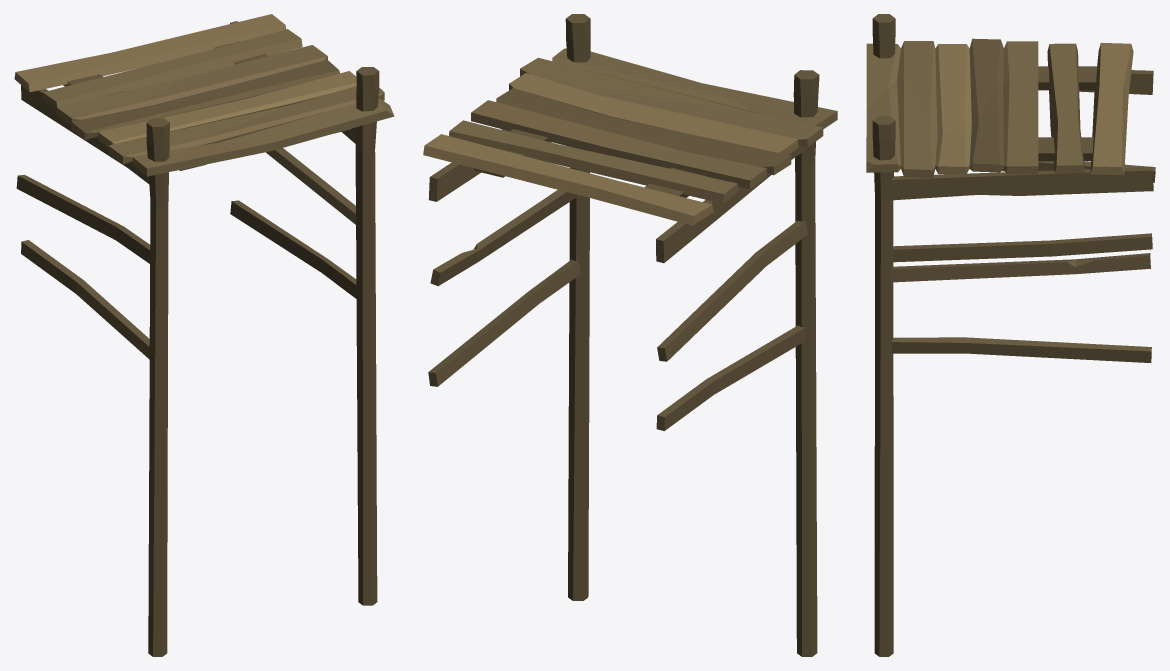
File: Dock_2.fbx
The picture shows the model from 3 angles, left to right: view 1: azimuth 30°, elevation 25°; view 2: azimuth 150°, elevation 25°; view 3: azimuth 270°, elevation 25°; orthographic projection. The views are drawn at different scales.
Visible parts, largest first — view 1: Dock_2; view 2: Dock_2; view 3: Dock_2.
Part boxes in pixels (x1,y1,x2,y2): Dock_2: (14, 14, 394, 656); Dock_2: (423, 14, 837, 656); Dock_2: (866, 14, 1155, 656).
Size of the model in its own units: 356 by 672 by 331.
